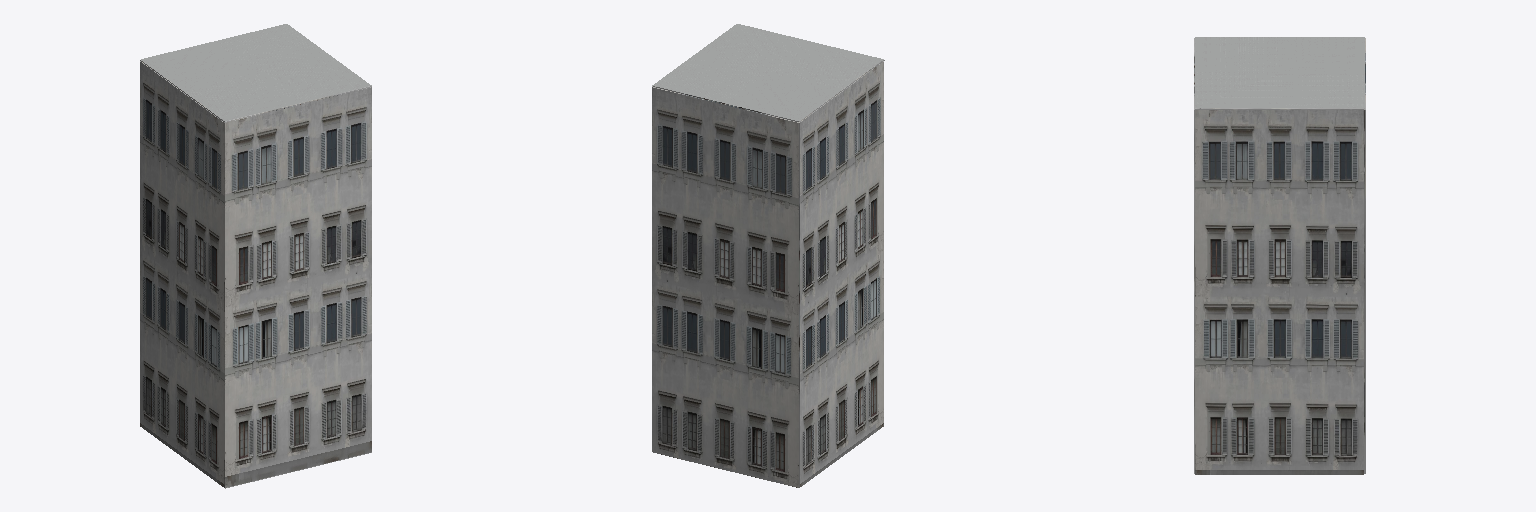
3 views of the same model, side by side, from view 1: azimuth 30°, elevation 25°; view 2: azimuth 150°, elevation 25°; view 3: azimuth 270°, elevation 25° (orthographic).
Visible parts, largest first — view 1: Edificio_SinDiseno5:polySurface4; view 2: Edificio_SinDiseno5:polySurface4; view 3: Edificio_SinDiseno5:polySurface4.
Boxes of the visible parts, <box> form: Edificio_SinDiseno5:polySurface4: <box>140,24,371,488</box>; Edificio_SinDiseno5:polySurface4: <box>652,24,884,487</box>; Edificio_SinDiseno5:polySurface4: <box>1194,37,1365,474</box>.
Size of the model in its own units: 4.79 by 11.37 by 4.81.
Materials: 1 (1 with a texture image).